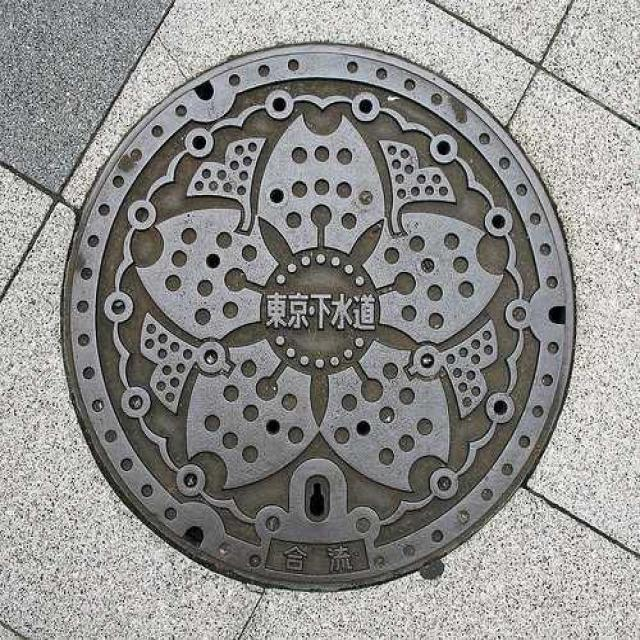manhole: (60, 44, 577, 595)
